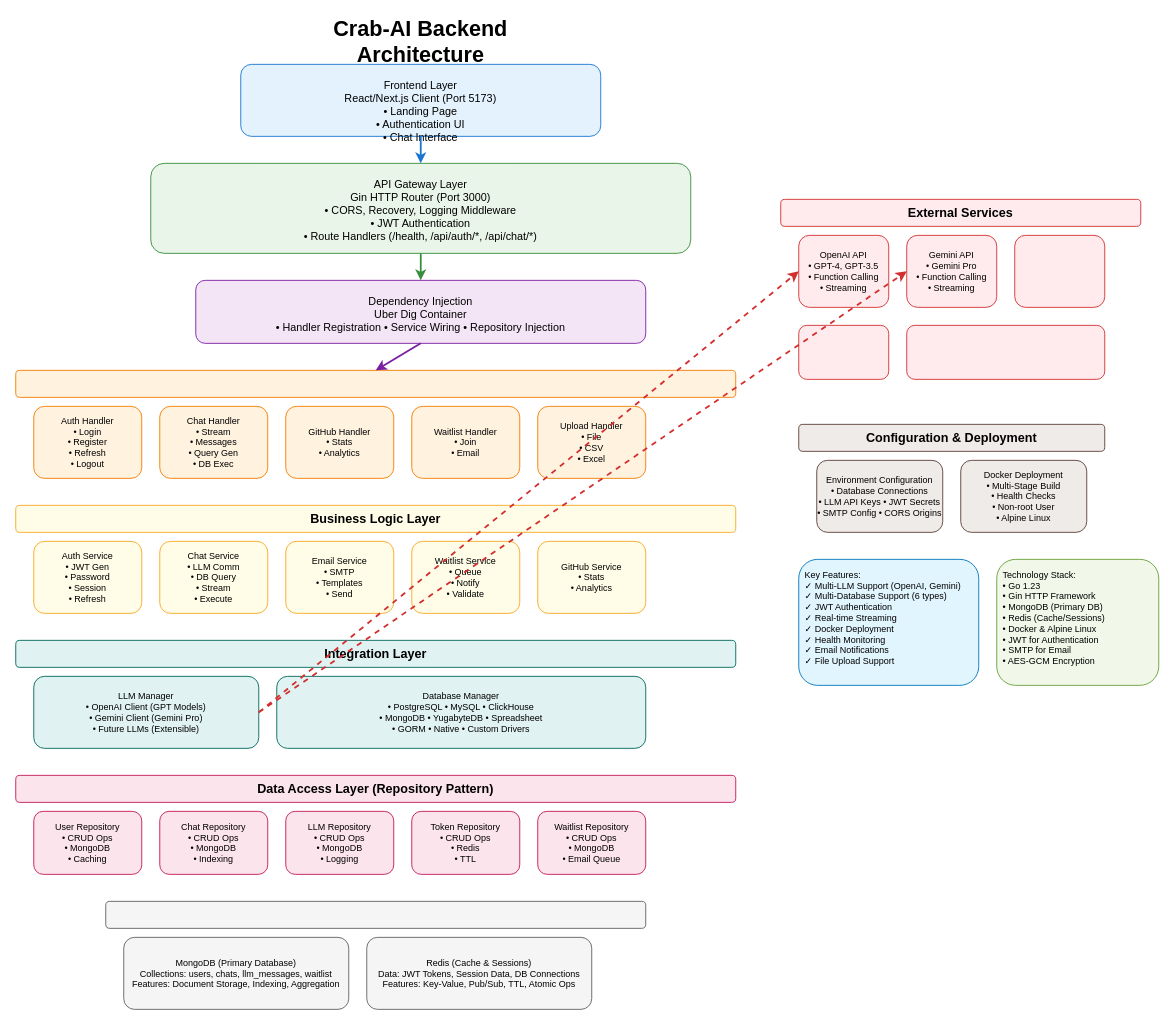
The diagram is 1175 pixels wide and 1025 high, and some of its shapes have lost their labels. The centre of each missing label's shape, as x and y in pixels:
"Customer Databases • PostgreSQL • MySQL • ClickHouse • MongoDB • YugabyteDB" belongs at [1005,351].
"Google OAuth • SSO • Profile Data" belongs at [843,351].
"Handler Layer" belongs at [375,383].
"Persistence Layer" belongs at [375,914].
"SMTP Server • Email Delivery • HTML Templates" belongs at [1059,270].
